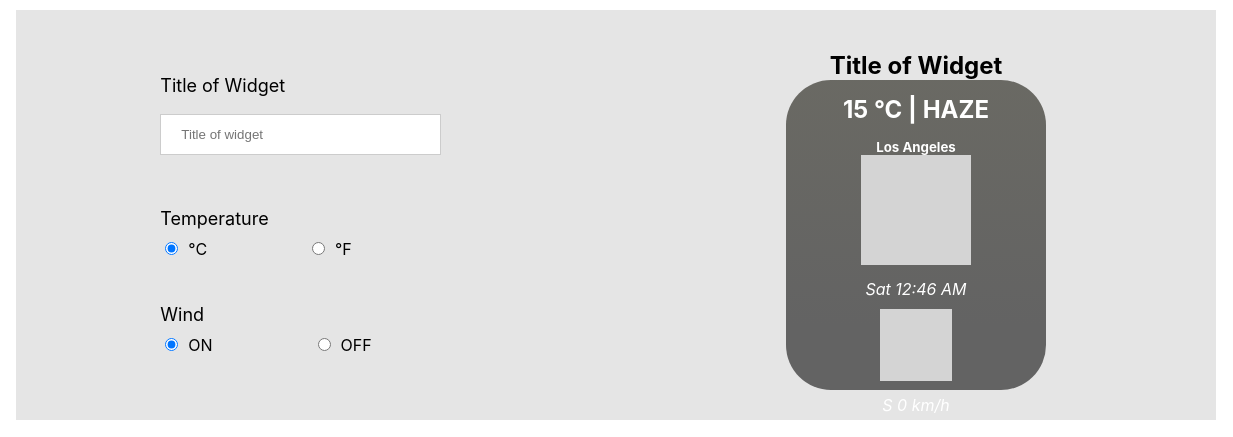
Test: Widget component › should hide wind div when the user click on OFF button.
This screenshot has width=1233, height=437.
Check: the heading "15 °C | haze" is shown, box [843,94,989,124]
Click the 2nd radio button with class "right" at (324, 344), box [318,338,331,351]
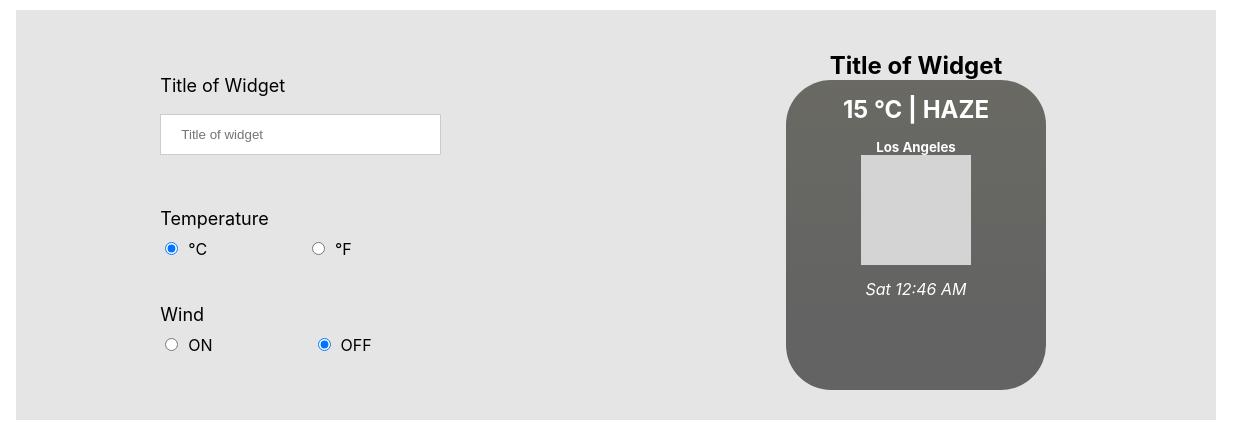
Check: the text "S 0 km/h" is gone
